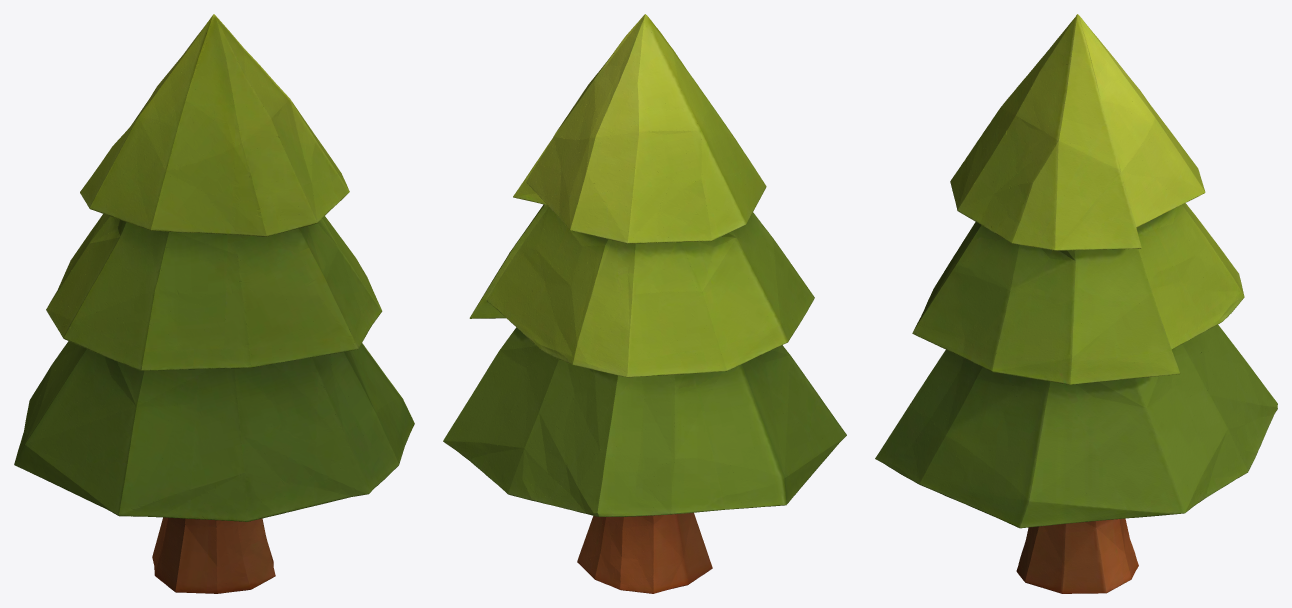
Rendered from KeepSakeOldTreeV1.glb.
3 renders of one model, left to right at view 1: azimuth 30°, elevation 25°; view 2: azimuth 150°, elevation 25°; view 3: azimuth 270°, elevation 25°, orthographic.
Visible parts, largest first — view 1: tripo_node_437ada97-cdf7-45c3-af24-5b780df254ac; view 2: tripo_node_437ada97-cdf7-45c3-af24-5b780df254ac; view 3: tripo_node_437ada97-cdf7-45c3-af24-5b780df254ac.
Part boxes in pixels (bbox=[...]): tripo_node_437ada97-cdf7-45c3-af24-5b780df254ac: bbox=[14, 14, 414, 593]; tripo_node_437ada97-cdf7-45c3-af24-5b780df254ac: bbox=[443, 14, 846, 593]; tripo_node_437ada97-cdf7-45c3-af24-5b780df254ac: bbox=[875, 14, 1277, 593].
Size of the model in its own units: 0.6335 by 0.9811 by 0.6448.
Materials: 1 (1 with a texture image).
